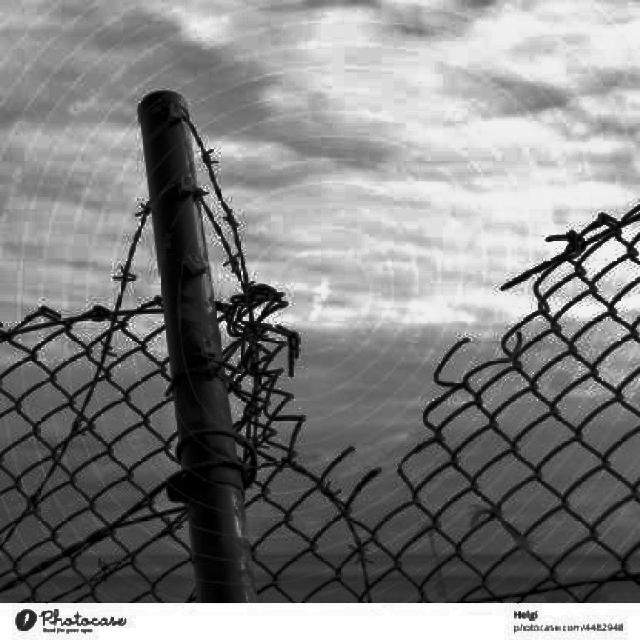anomaly-fence: (134, 51, 636, 520)
